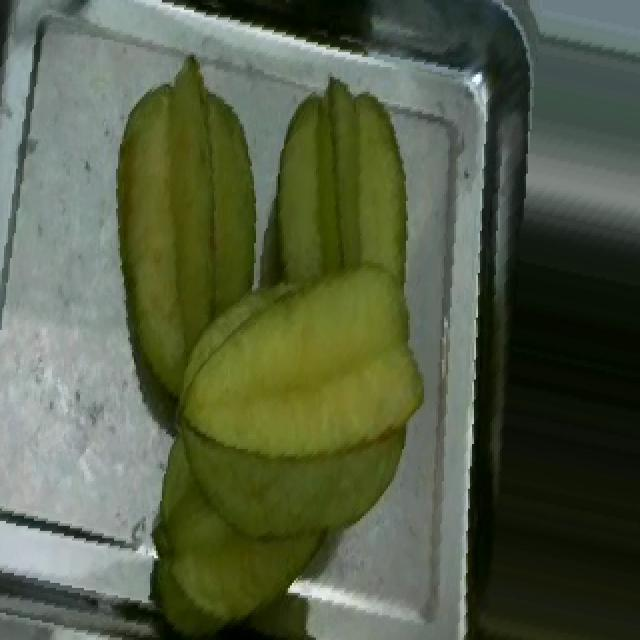fruit: (58, 44, 318, 422), (148, 243, 440, 489), (234, 65, 450, 315), (132, 387, 332, 640)
